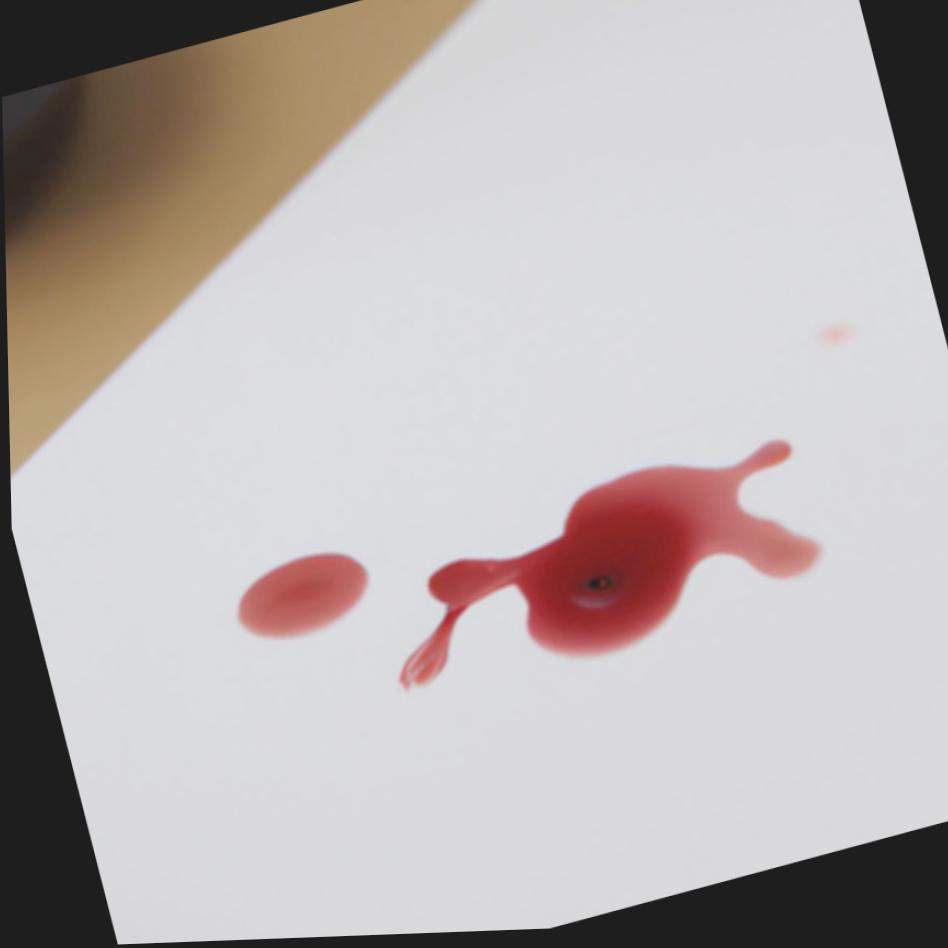Fire: (396, 444, 819, 694), (235, 555, 366, 641)
